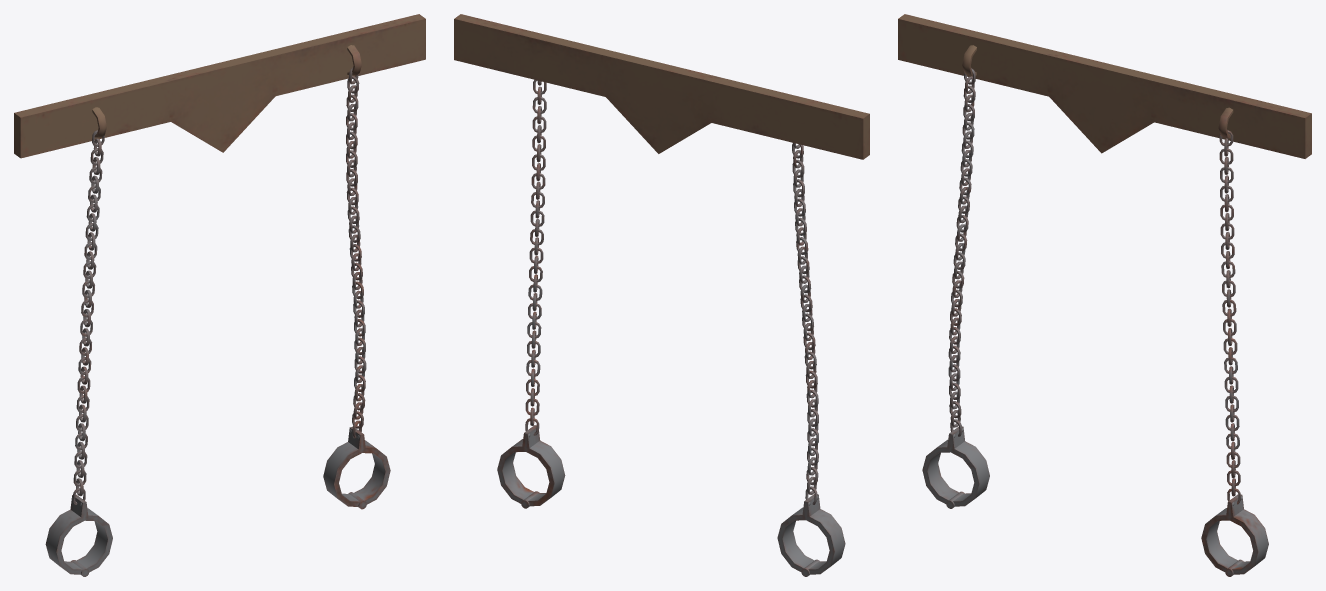
Rendered from sb_obj_indoor035_Prison01_handcuffs01.fbx.
The picture shows the model from 3 angles, left to right: view 1: azimuth 30°, elevation 25°; view 2: azimuth 150°, elevation 25°; view 3: azimuth 330°, elevation 25°; orthographic projection.
Parts seen in each view (by area): view 1: sb_obj_indoor035_Prison01_handcuffs01; view 2: sb_obj_indoor035_Prison01_handcuffs01; view 3: sb_obj_indoor035_Prison01_handcuffs01.
Part boxes in pixels (box(x1,y1,x2,y2)): sb_obj_indoor035_Prison01_handcuffs01: box(14, 14, 425, 576); sb_obj_indoor035_Prison01_handcuffs01: box(454, 14, 869, 576); sb_obj_indoor035_Prison01_handcuffs01: box(898, 14, 1311, 576).
Bounding box in the file's own units: 1 × 1.11 × 0.0642.
